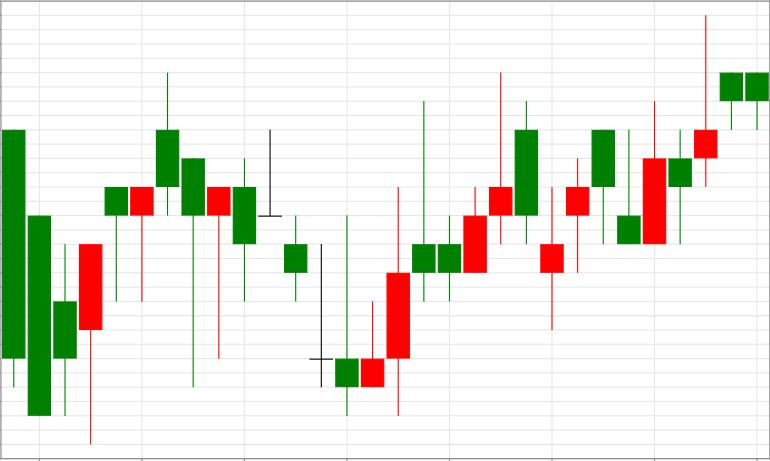inverse_hammer_rise: (156, 72, 385, 416)
